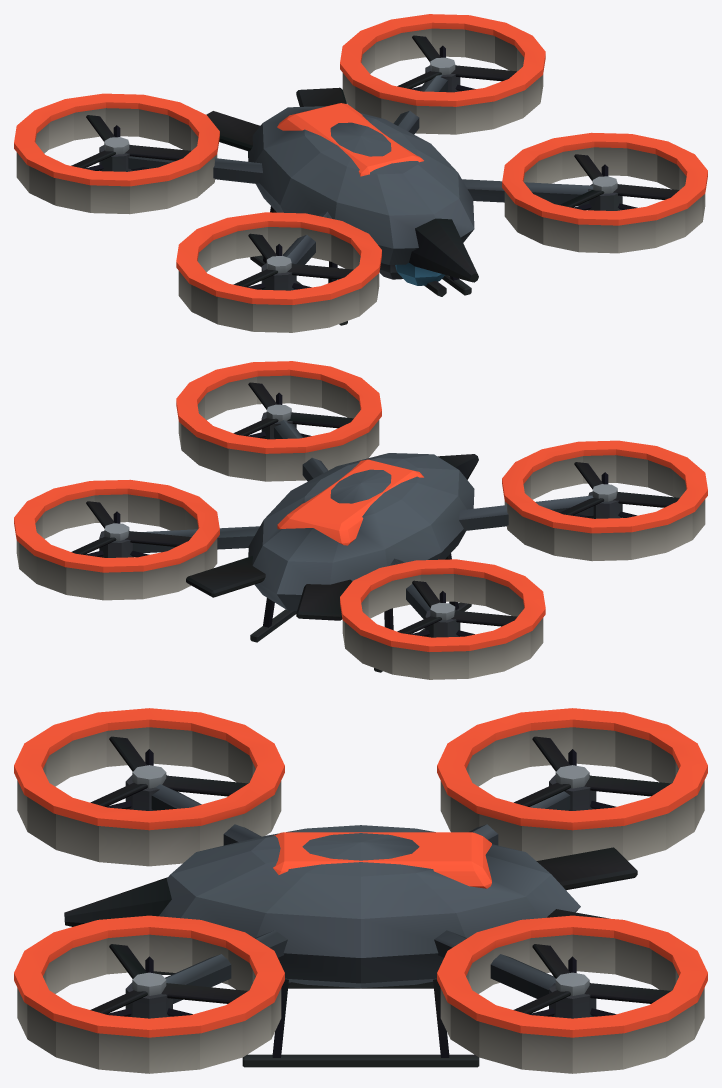
The model's file is drone.glb.
The picture shows the model from 3 angles, top to bottom: view 1: azimuth 30°, elevation 25°; view 2: azimuth 150°, elevation 25°; view 3: azimuth 270°, elevation 25°; orthographic projection. The views are drawn at different scales.
Parts seen in each view (by area): view 1: geo_body, geo_rotor_pivot_fl, geo_rotor_pivot_fr, geo_rotor_pivot_rl, geo_rotor_pivot_rr; view 2: geo_body, geo_rotor_pivot_fl, geo_rotor_pivot_fr, geo_rotor_pivot_rl, geo_rotor_pivot_rr; view 3: geo_body, geo_rotor_pivot_fr, geo_rotor_pivot_rr, geo_rotor_pivot_rl, geo_rotor_pivot_fl.
Boxes of the visible parts, box(x1,y1,x2,y2) form: geo_body: box(14, 14, 707, 332); geo_rotor_pivot_fl: box(233, 233, 353, 287); geo_rotor_pivot_fr: box(559, 154, 679, 207); geo_rotor_pivot_rl: box(71, 115, 191, 168); geo_rotor_pivot_rr: box(397, 35, 516, 88); geo_body: box(14, 361, 707, 679); geo_rotor_pivot_fl: box(559, 462, 679, 515); geo_rotor_pivot_fr: box(233, 382, 353, 436); geo_rotor_pivot_rl: box(397, 580, 517, 634); geo_rotor_pivot_rr: box(71, 501, 191, 554); geo_body: box(14, 708, 707, 1073); geo_rotor_pivot_fr: box(90, 944, 247, 1014); geo_rotor_pivot_rr: box(514, 944, 670, 1014); geo_rotor_pivot_rl: box(514, 736, 671, 806); geo_rotor_pivot_fl: box(90, 736, 248, 806).
Bounding box in the file's own units: 4.5 × 1.2 × 4.1.
